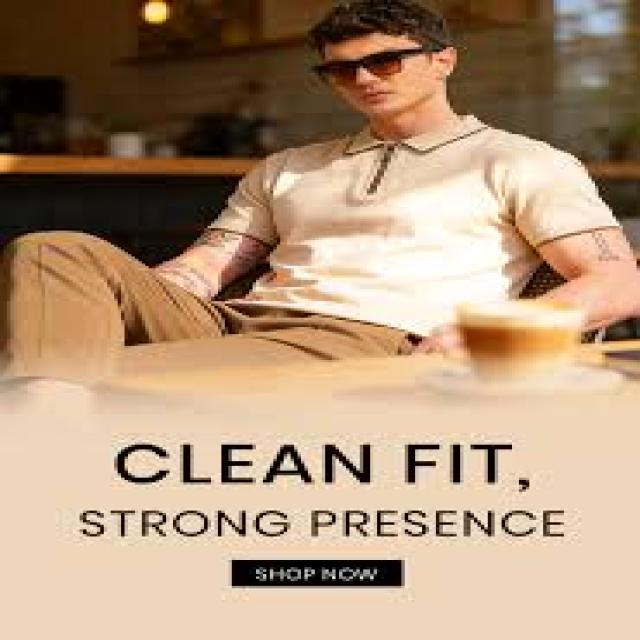face: (329, 50, 456, 119)
lower-wear: (0, 231, 411, 383)
top-wear: (217, 115, 618, 338)
